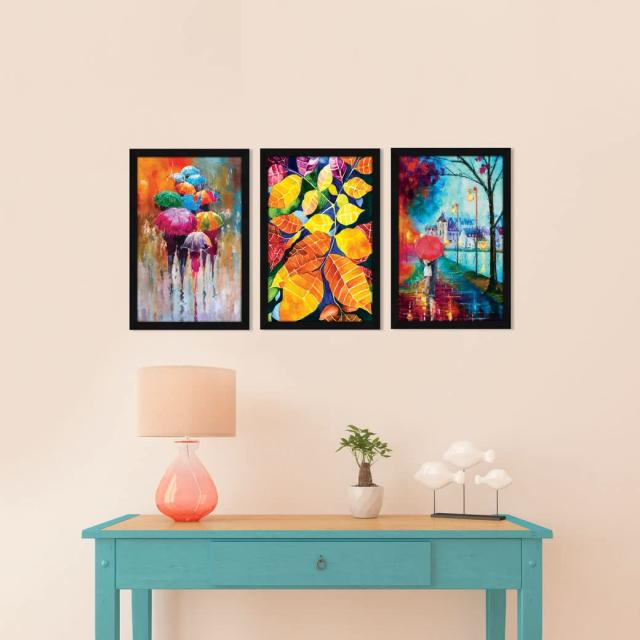painting: (129, 146, 253, 331), (390, 145, 513, 330), (261, 146, 382, 331)
